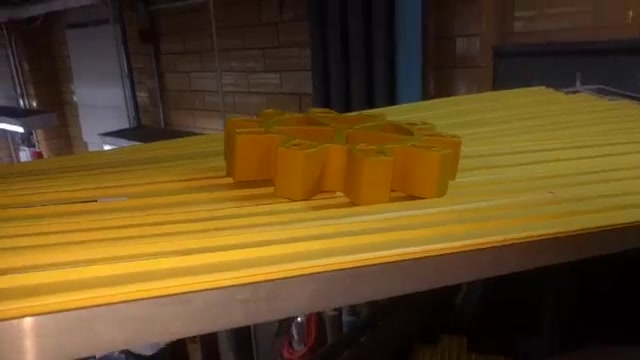gear: (217, 90, 468, 210)
